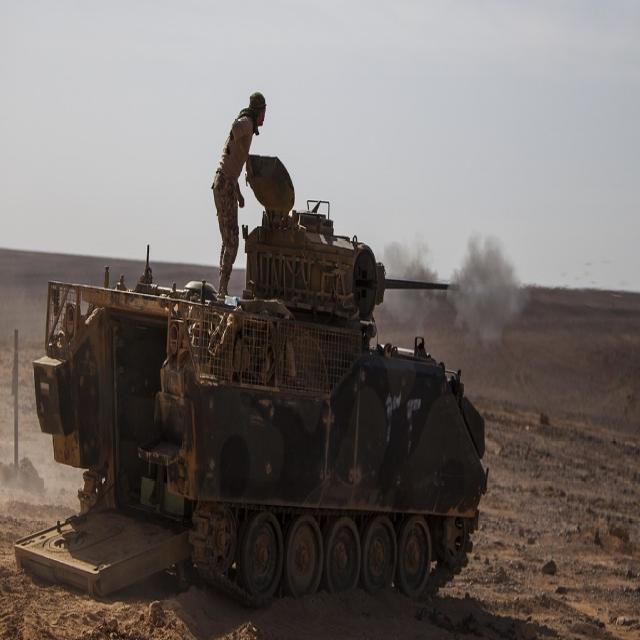tank: (34, 153, 490, 607)
